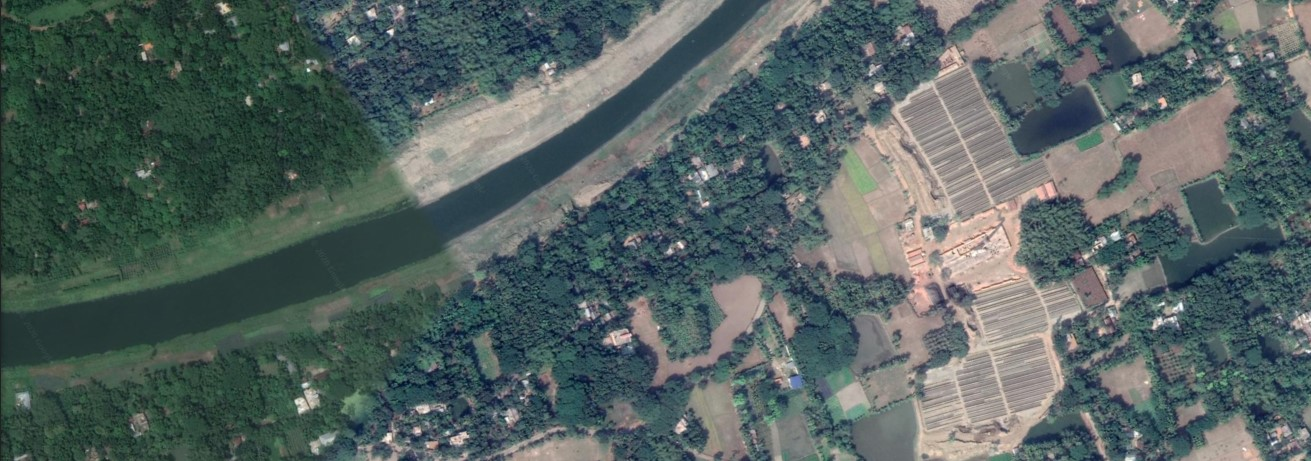kiln: (943, 224, 1010, 270)
